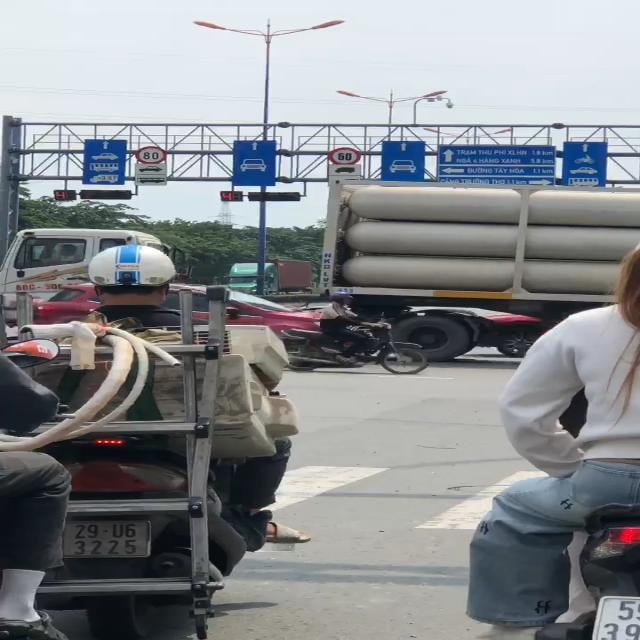Bien bao toc do toi da cho phep: (130, 145, 170, 167), (325, 144, 364, 166)
